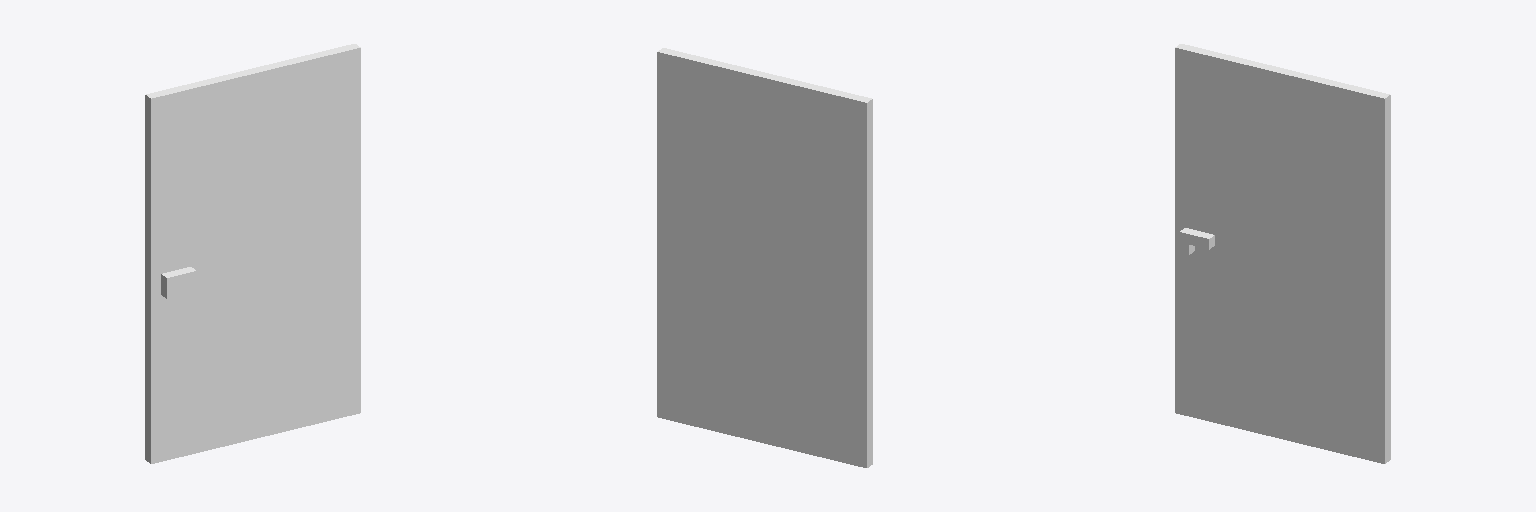
The model's file is ConstructionMaterials-2.obj.
The picture shows the model from 3 angles: view 1: azimuth 30°, elevation 25°; view 2: azimuth 150°, elevation 25°; view 3: azimuth 330°, elevation 25°; orthographic projection.
Visible parts, largest first — view 1: object 1; view 2: object 1; view 3: object 1.
Boxes of the visible parts, <box> form: object 1: <box>145,44,360,463</box>; object 1: <box>657,48,872,467</box>; object 1: <box>1175,44,1390,463</box>.
Size of the model in its own units: 2.1 by 3.5 by 0.2.